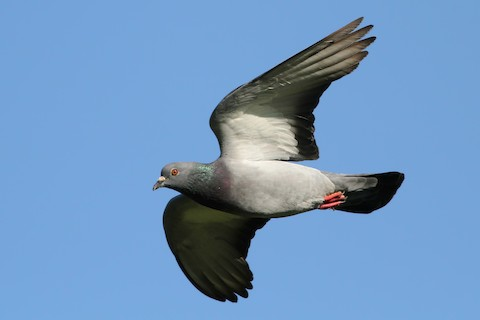pigeon: (148, 16, 408, 304)
